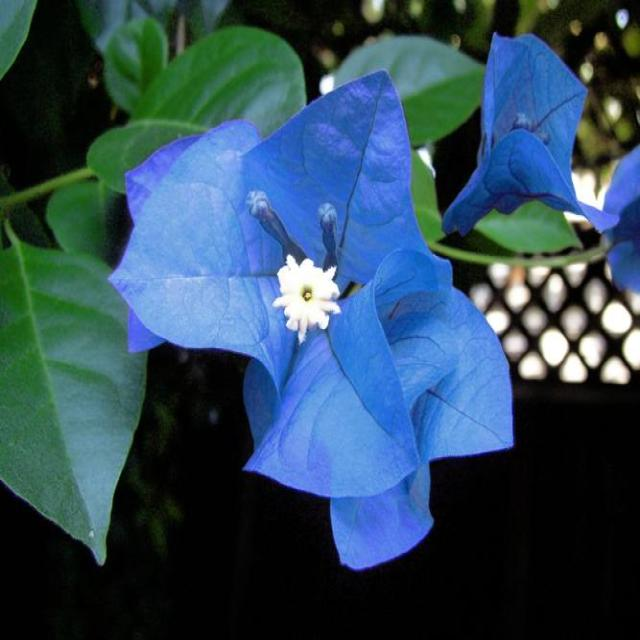bougainvillea: (87, 60, 531, 617)
